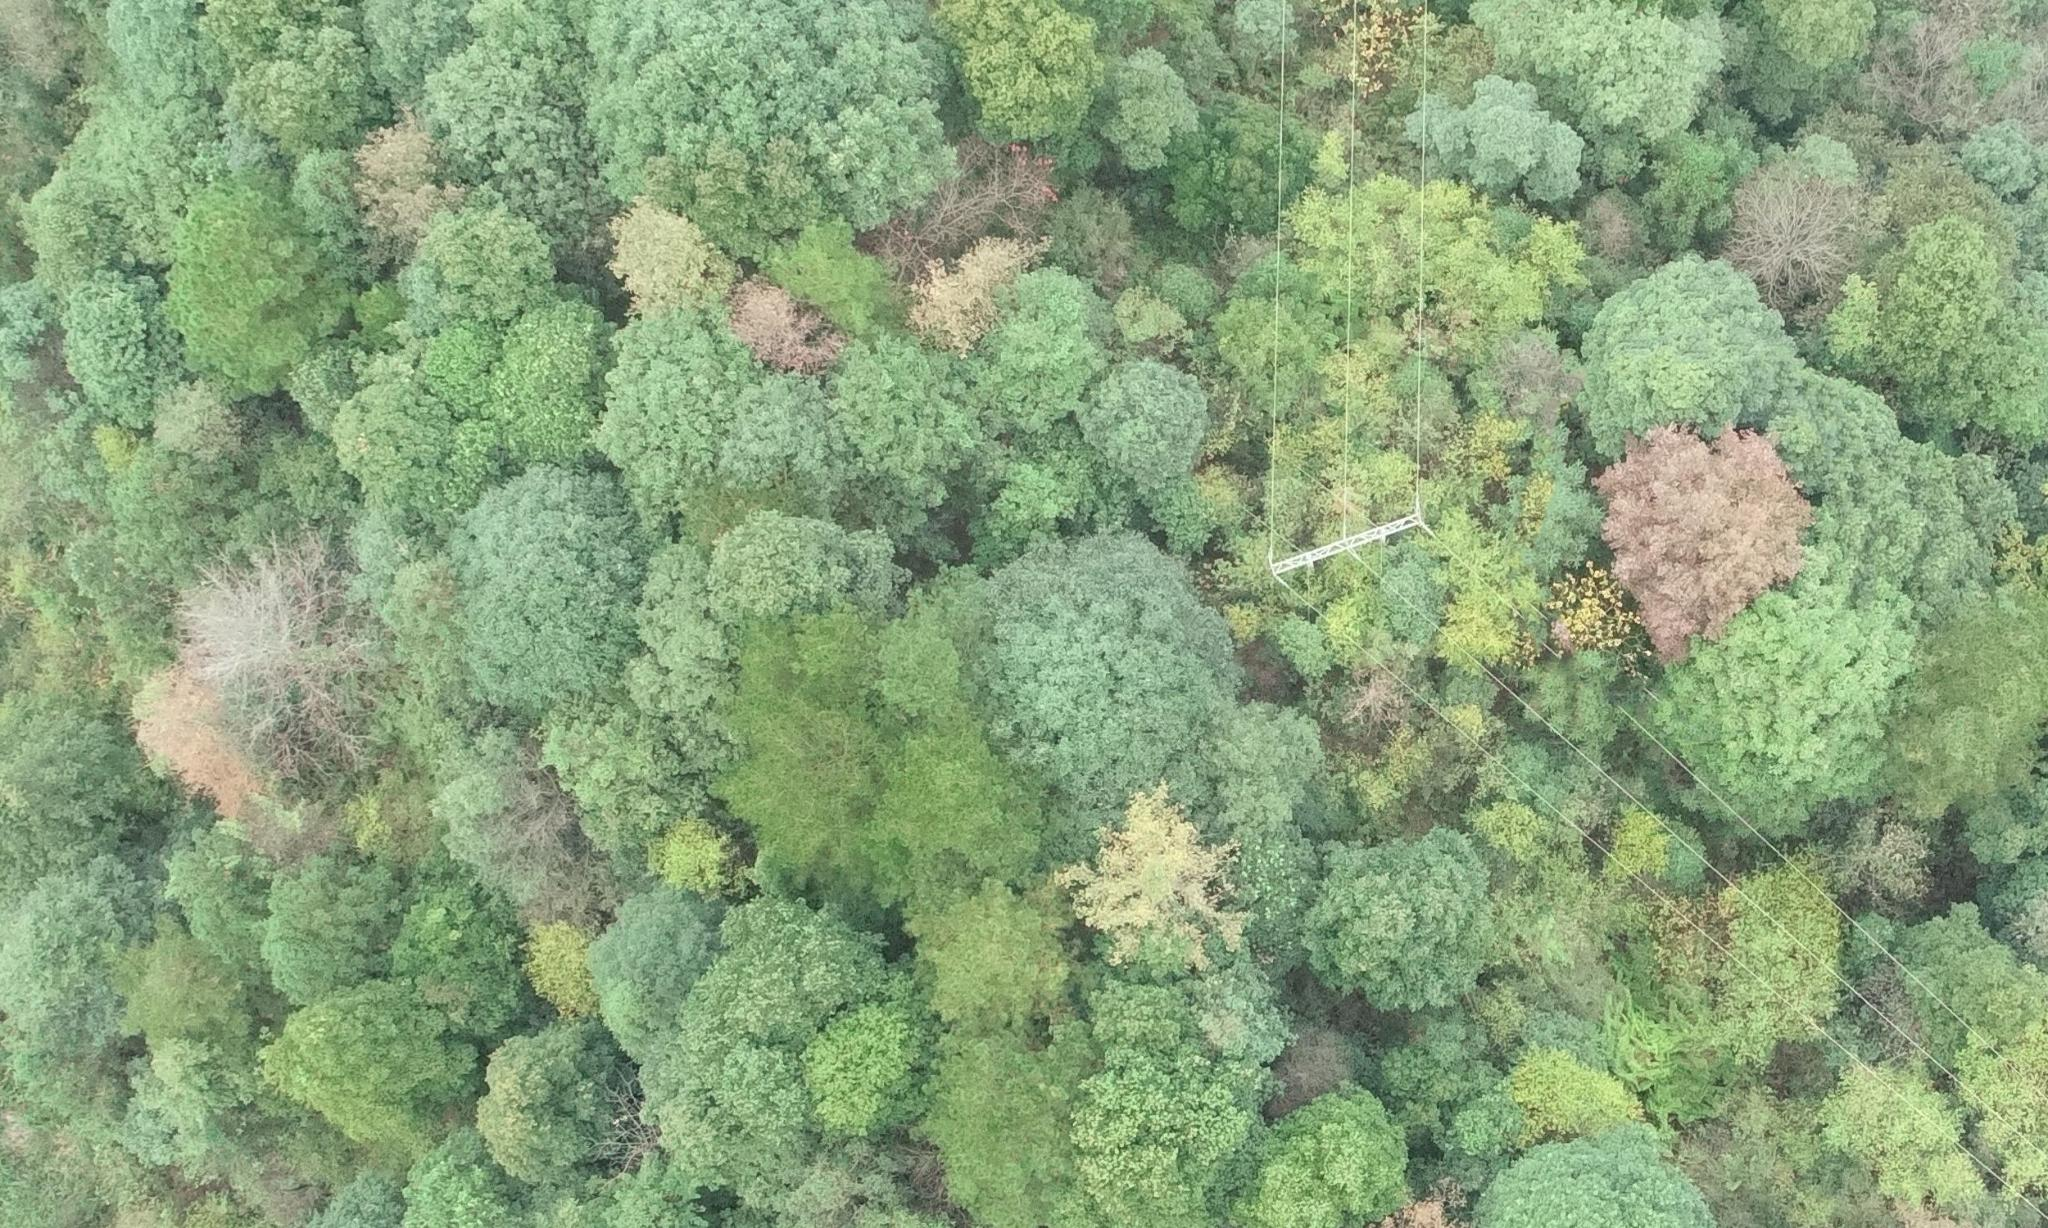dead: (172, 558, 436, 773), (867, 133, 1096, 259), (1744, 155, 1862, 323)
